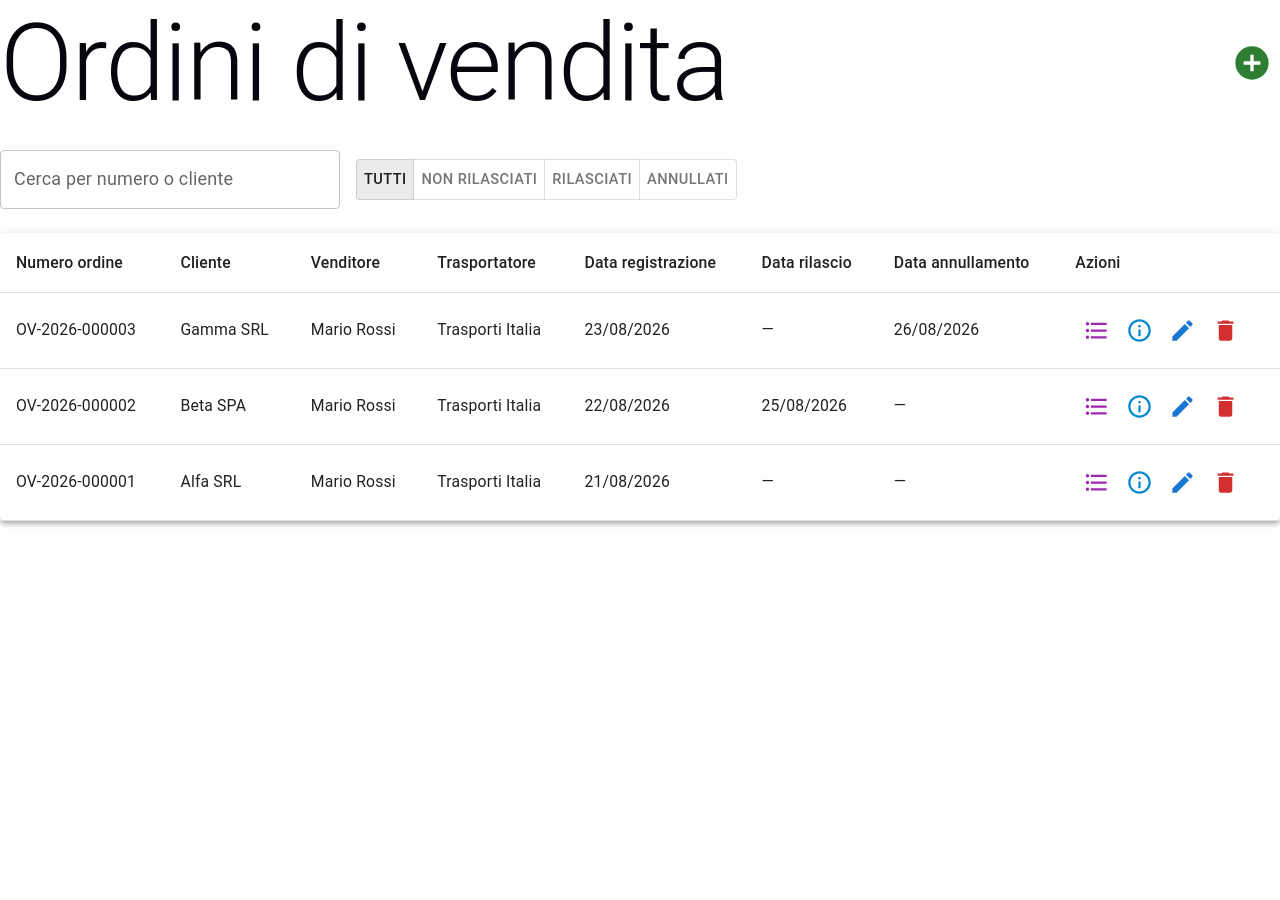
Test: OrdiniVendita › spiega le regole per ordini rilasciati o annullati ed elimina quello valido
Expected: the text "OV-2026-000001" is shown, [0,444,164,520]
Click the button named "Elimina OV-2026-000002": (1226, 406) [1204,385,1247,428]
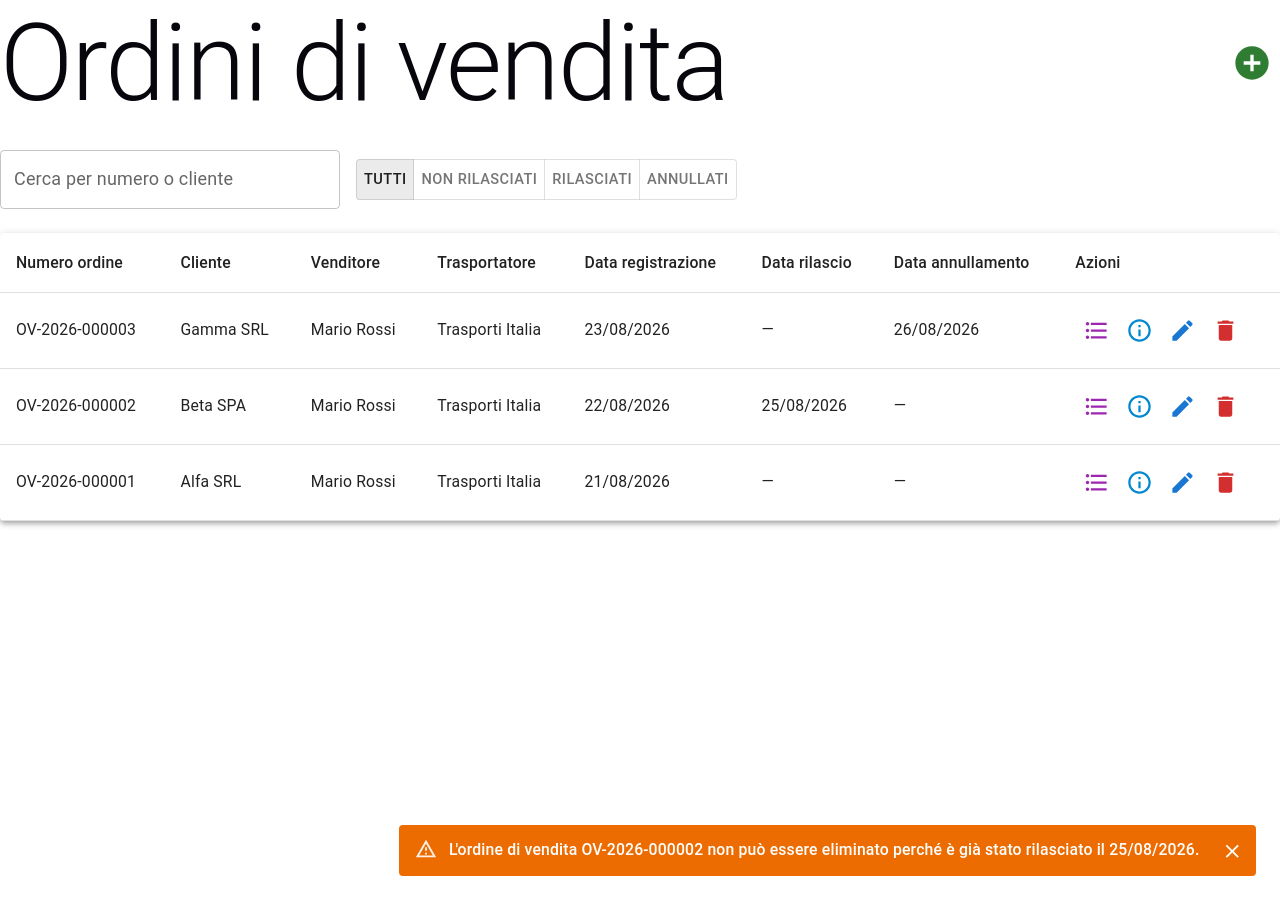
Expected: the text "L'ordine di vendita OV-2026-000002 non può essere eliminato perché è già stato rilasciato il 25/08/2026." is shown, [449,840,1200,860]
Click the button named "Elimina OV-2026-000003": (1226, 330) [1204,309,1247,352]
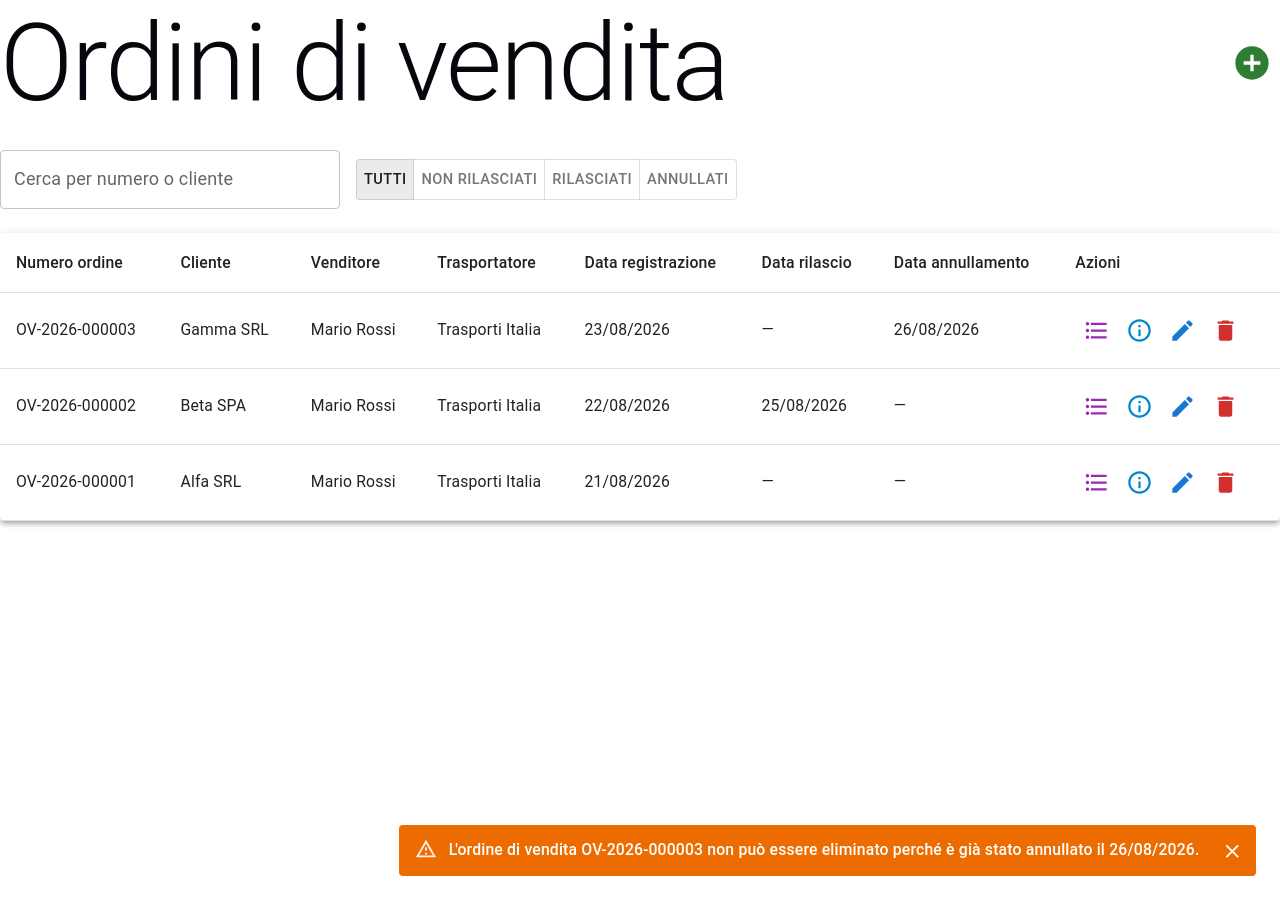
Expected: the text "L'ordine di vendita OV-2026-000003 non può essere eliminato perché è già stato annullato il 26/08/2026." is shown, [449,840,1200,860]
Click the button named "Elimina OV-2026-000001": (1226, 482) [1204,461,1247,504]
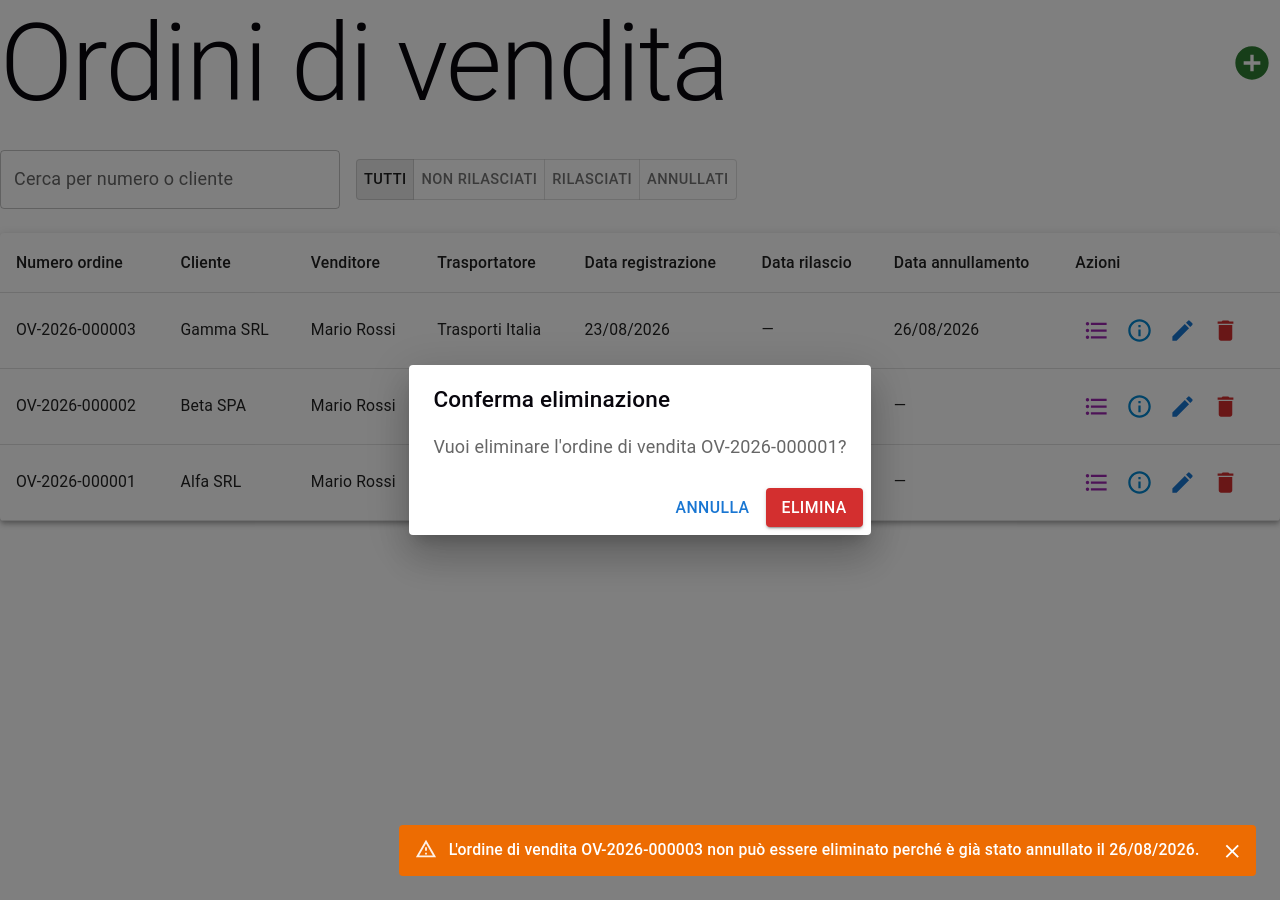
Expected: the text "Vuoi eliminare l'ordine di vendita OV-2026-000001?" is shown, [433,433,847,460]
Click the button "Elimina": (814, 508) [766,488,863,527]
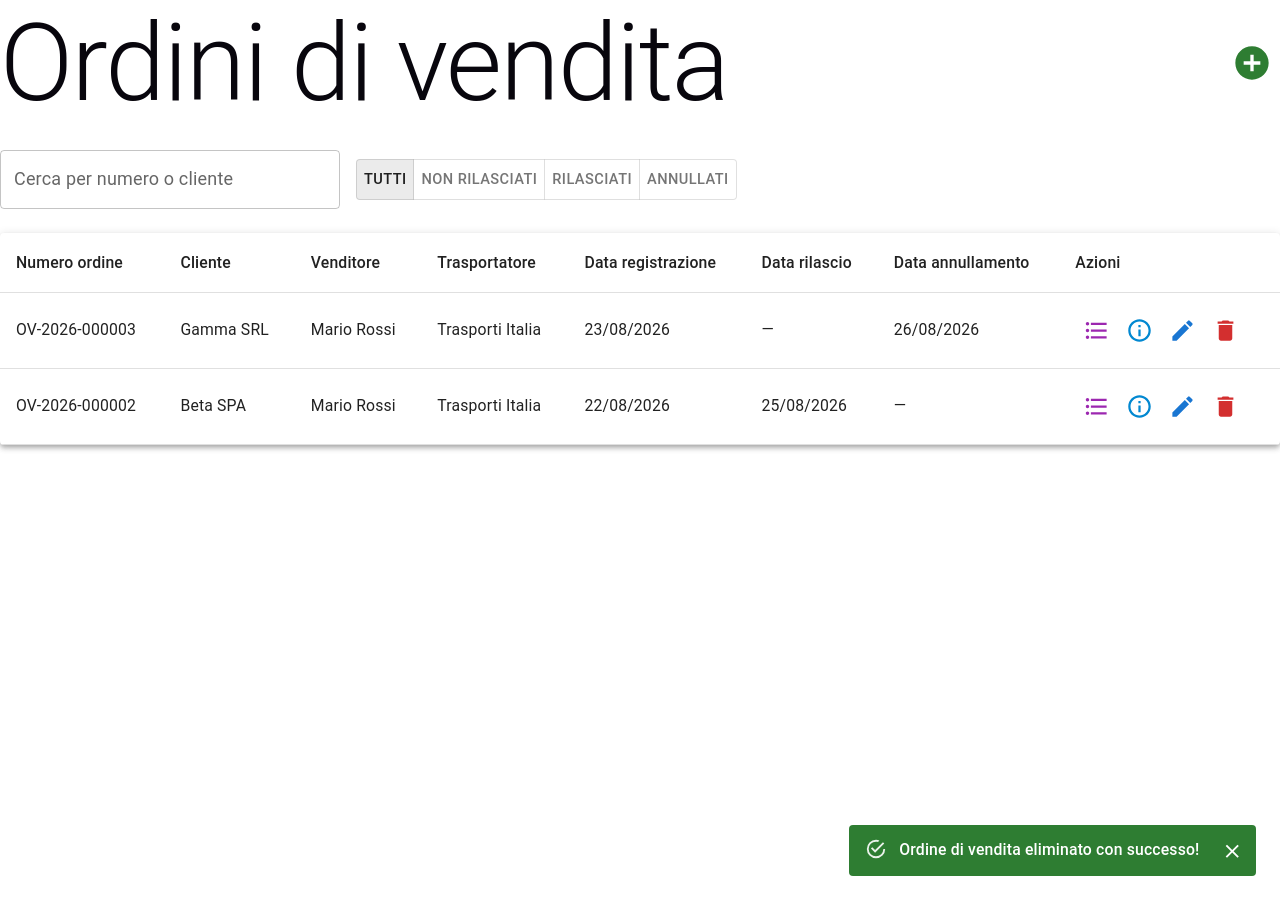
Expected: the text "Ordine di vendita eliminato con successo!" is shown, [899,840,1200,860]
Expected: the text "OV-2026-000001" is gone
